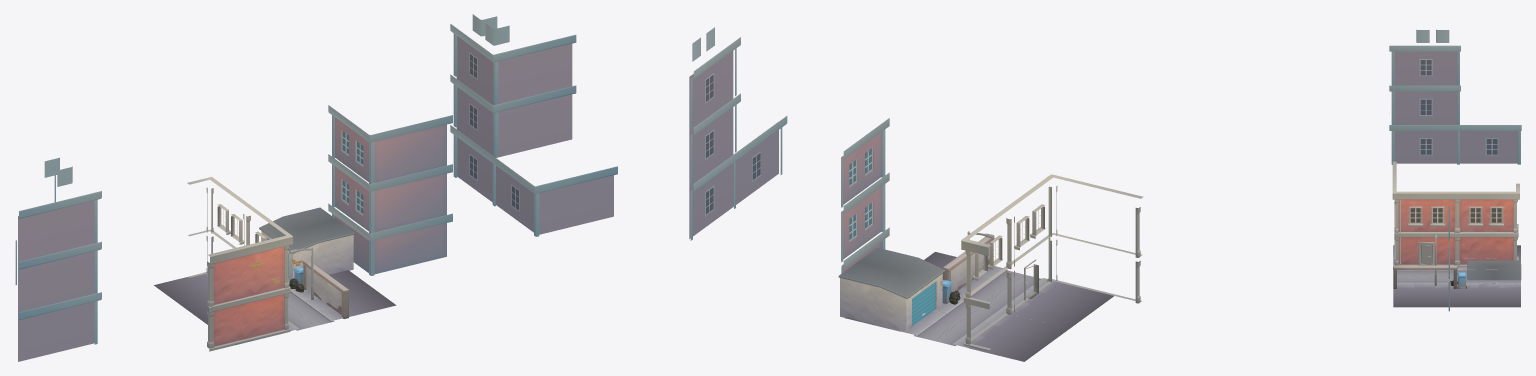
The model's file is UrbanBuilding02.prefab.glb.
3 renders of one model, left to right at view 1: azimuth 30°, elevation 25°; view 2: azimuth 150°, elevation 25°; view 3: azimuth 270°, elevation 25°, orthographic. The views are drawn at different scales.
Visible parts, largest first — view 1: FarBackBuilding02, BackgroundBuilding01, Building01, Garage03, UrbanBuilding02, Road02, PlasteredWall02; view 2: FarBackBuilding02, Garage03, Building01, BackgroundBuilding01, Road02, UrbanBuilding02, PlasteredWall02; view 3: FarBackBuilding02, Building01, UrbanBuilding02, Road02, Garage03, PlasteredWall02, BackgroundBuilding01, WheelyBinBlue.
Part boxes in pixels (x1,y1,x2,y2): FarBackBuilding02: (15, 14, 617, 361); BackgroundBuilding01: (328, 105, 452, 275); Building01: (187, 177, 292, 351); Garage03: (259, 207, 354, 280); UrbanBuilding02: (194, 275, 396, 344); Road02: (154, 270, 355, 314); PlasteredWall02: (302, 260, 349, 318); FarBackBuilding02: (689, 27, 787, 240); Garage03: (838, 247, 945, 331); Building01: (961, 174, 1143, 351); BackgroundBuilding01: (841, 118, 889, 273); Road02: (845, 301, 1069, 361); UrbanBuilding02: (924, 252, 1113, 328); PlasteredWall02: (942, 236, 994, 291); FarBackBuilding02: (1389, 29, 1521, 164); Building01: (1392, 161, 1519, 266); UrbanBuilding02: (1393, 245, 1457, 307); Road02: (1457, 245, 1520, 307); Garage03: (1467, 260, 1521, 283); PlasteredWall02: (1393, 265, 1457, 288); BackgroundBuilding01: (1448, 205, 1497, 311); WheelyBinBlue: (1457, 272, 1466, 288).
Bounding box in the file's own units: 76.34 × 26.28 × 18.69.
Materials: 5 (4 with a texture image).
